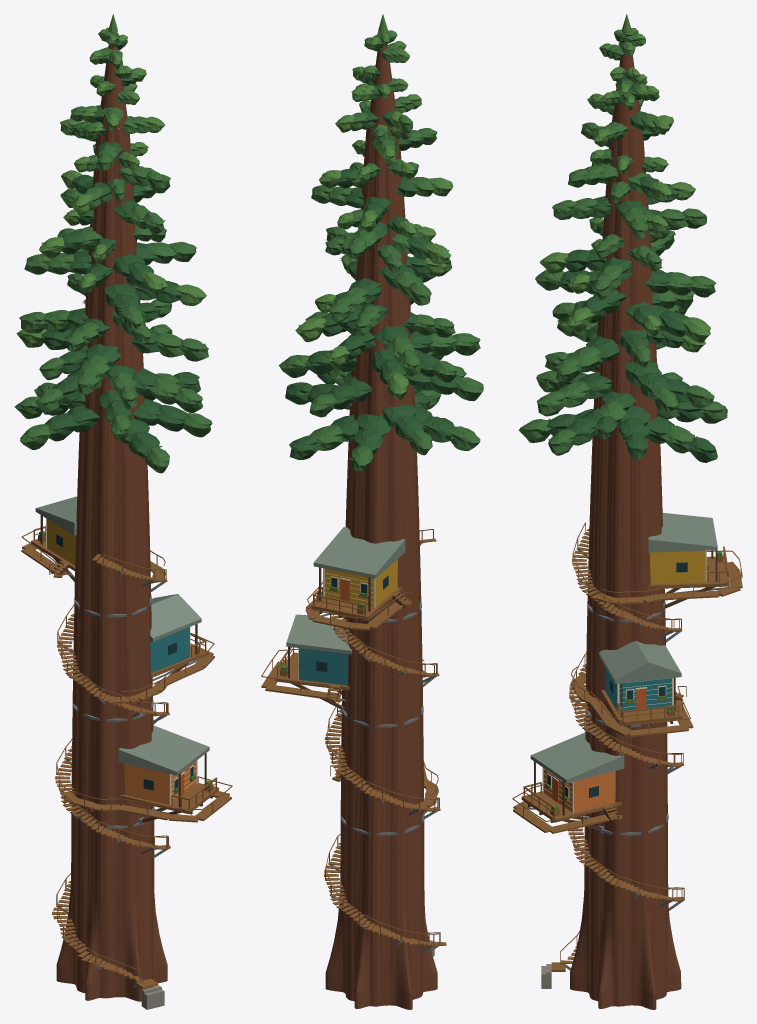
The model's file is village_tree_mid.glb.
3 renders of one model, left to right at view 1: azimuth 30°, elevation 25°; view 2: azimuth 150°, elevation 25°; view 3: azimuth 270°, elevation 25°, orthographic.
Visible parts, largest first — view 1: village_tree_mid; view 2: village_tree_mid; view 3: village_tree_mid.
Boxes of the visible parts, <box> form: village_tree_mid: <box>14,14,232,1009</box>; village_tree_mid: <box>261,14,483,1009</box>; village_tree_mid: <box>512,14,742,1009</box>.
Size of the model in its own units: 20.11 by 94.2 by 20.18.
